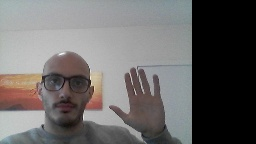Mano_aperta: (106, 66, 166, 136)
